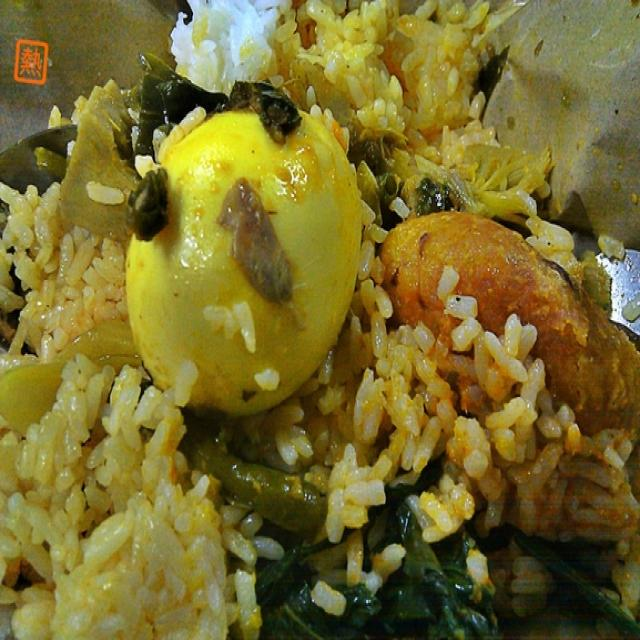米饭主食: (10, 7, 621, 627)
